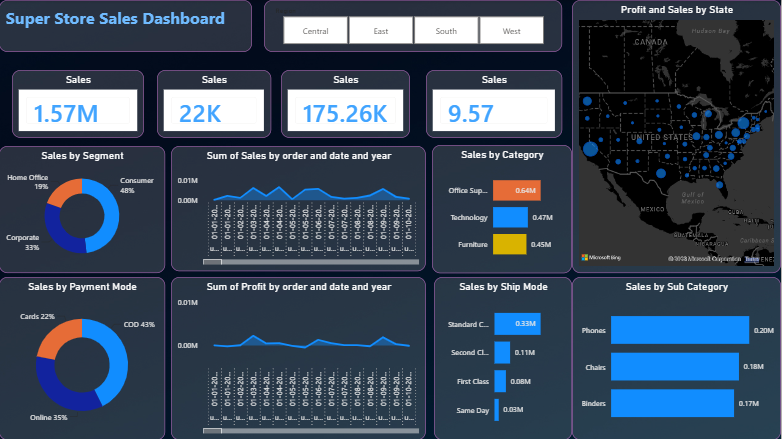

The dashboard page shown, as its layout file describes it:
{"tool":"powerbi","page":{"name":"POWER - BI DASHBOARD 2","canvas":[1280,720],"ordinal":0},"visuals":[{"type":"clusteredBarChart","title":" Sales by Category","fields":{"Category":["SuperStore_Sales_Dataset.Category"],"Y":["Sum(SuperStore_Sales_Dataset.Sales)"]},"box":[708.7,237.3,229.2,209.5],"z":0},{"type":"clusteredBarChart","title":" Sales by Sub Category","fields":{"Category":["SuperStore_Sales_Dataset.Sub-Category"],"Y":["Sum(SuperStore_Sales_Dataset.Sales)"]},"box":[937.9,453.4,342.1,266.8],"z":1000},{"type":"clusteredBarChart","title":" Sales by Ship Mode","fields":{"Category":["SuperStore_Sales_Dataset.Ship Mode"],"Y":["Sum(SuperStore_Sales_Dataset.Sales)"]},"box":[712,453.4,225.9,266.8],"z":2000},{"type":"stackedAreaChart","title":"Sum of Sales by order and date and year","fields":{"Category":["SuperStore_Sales_Dataset.Order Date Hierarchy.Order Date","SuperStore_Sales_Dataset.Order Date"],"Series":["SuperStore_Sales_Dataset.Order Date Hierarchy.Order Date"],"Y":["Sum(SuperStore_Sales_Dataset.Sales)"]},"box":[281.5,239,417.4,204.6],"z":3000},{"type":"stackedAreaChart","title":"Sum of Profit by order and date and year","fields":{"Category":["SuperStore_Sales_Dataset.Order Date Hierarchy.Order Date","SuperStore_Sales_Dataset.Order Date"],"Series":["SuperStore_Sales_Dataset.Order Date Hierarchy.Order Date"],"Y":["Sum(SuperStore_Sales_Dataset.Profit)"]},"box":[281.5,453.4,417.4,266.8],"z":4000},{"type":"map","title":"Profit and Sales by State","fields":{"Category":["SuperStore_Sales_Dataset.State"],"Size":["Sum(SuperStore_Sales_Dataset.Sales)"]},"box":[937.9,62.2,342.1,384.7],"z":5000},{"type":"donutChart","title":" Sales by Segment","fields":{"Category":["SuperStore_Sales_Dataset.Segment"],"Y":["Sum(SuperStore_Sales_Dataset.Sales)"]},"box":[0,239,271.7,207.9],"z":6000},{"type":"donutChart","title":" Sales by Payment Mode","fields":{"Category":["SuperStore_Sales_Dataset.Payment Mode"],"Y":["Sum(SuperStore_Sales_Dataset.Sales)"]},"box":[0,453.4,271.7,266.8],"z":7000},{"type":"slicer","fields":{"Values":["SuperStore_Sales_Dataset.Region"]},"box":[445.2,62.2,476.3,45.8],"z":8000},{"type":"textbox","box":[21.3,55.7,407.6,58.9],"z":9000},{"type":"cardVisual","title":"Sales","fields":{"Data":["Sum(SuperStore_Sales_Dataset.Sales)"]},"box":[21.3,114.6,216.1,111.3],"z":10000},{"type":"cardVisual","title":"Sales","fields":{"Data":["Sum(SuperStore_Sales_Dataset.Quantity)"]},"box":[258.6,114.6,186.6,111.3],"z":11000},{"type":"cardVisual","title":"Sales","fields":{"Data":["Sum(SuperStore_Sales_Dataset.Profit)"]},"box":[461.6,114.6,211.2,111.3],"z":12000},{"type":"cardVisual","title":"Sales","fields":{"Data":["Avg(SuperStore_Sales_Dataset.AvgDelivery)"]},"box":[698.9,114.6,222.6,111.3],"z":13000}]}

Visuals, with their boxes in screenshot pixels (x1, y1, x2, y2), scaled from the page's 1280x720 canvas onto the 782x439 screenshot:
" Sales by Category" clusteredBarChart: [433, 145, 573, 272]
" Sales by Sub Category" clusteredBarChart: [573, 276, 781, 438]
" Sales by Ship Mode" clusteredBarChart: [435, 276, 573, 438]
"Sum of Sales by order and date and year" stackedAreaChart: [172, 146, 427, 270]
"Sum of Profit by order and date and year" stackedAreaChart: [172, 276, 427, 438]
"Profit and Sales by State" map: [573, 38, 781, 272]
" Sales by Segment" donutChart: [0, 146, 166, 272]
" Sales by Payment Mode" donutChart: [0, 276, 166, 438]
slicer - SuperStore_Sales_Dataset.Region: [272, 38, 563, 66]
textbox: [13, 34, 262, 70]
"Sales" cardVisual: [13, 70, 145, 138]
"Sales" cardVisual: [158, 70, 272, 138]
"Sales" cardVisual: [282, 70, 411, 138]
"Sales" cardVisual: [427, 70, 563, 138]
